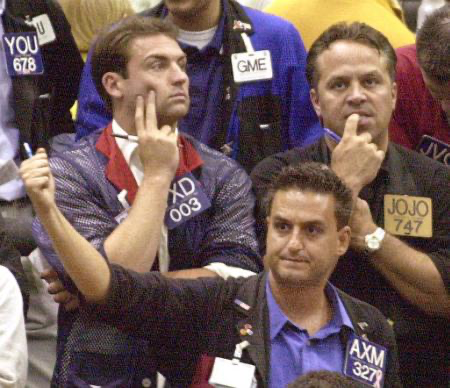Face: (259, 196, 342, 286), (314, 59, 394, 147), (113, 44, 193, 130)
